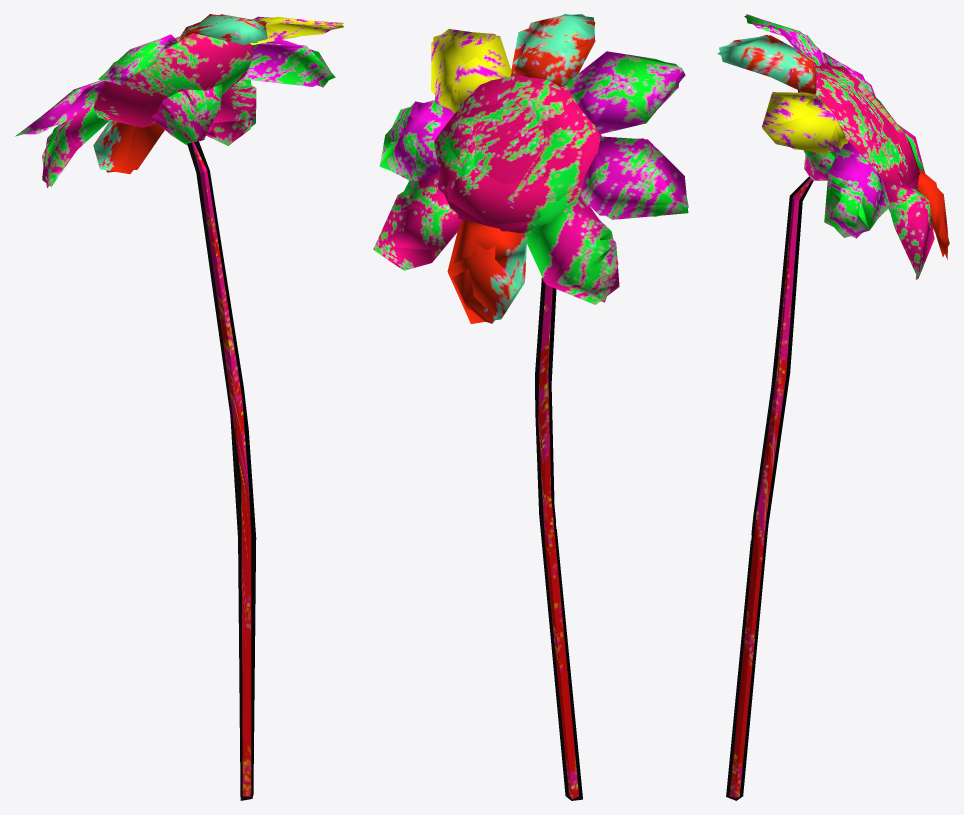
The model's file is SunFlowerProjectile.fbx.
The picture shows the model from 3 angles, left to right: view 1: azimuth 30°, elevation 25°; view 2: azimuth 150°, elevation 25°; view 3: azimuth 270°, elevation 25°; orthographic projection. The views are drawn at different scales.
Parts seen in each view (by area): view 1: Projectile_SunFlowerDecimated; view 2: Projectile_SunFlowerDecimated; view 3: Projectile_SunFlowerDecimated.
Part boxes in pixels (x1,y1,x2,y2): Projectile_SunFlowerDecimated: [15, 14, 343, 800]; Projectile_SunFlowerDecimated: [373, 14, 688, 800]; Projectile_SunFlowerDecimated: [717, 14, 949, 800].
Size of the model in its own units: 13.76 by 33.02 by 9.23.
